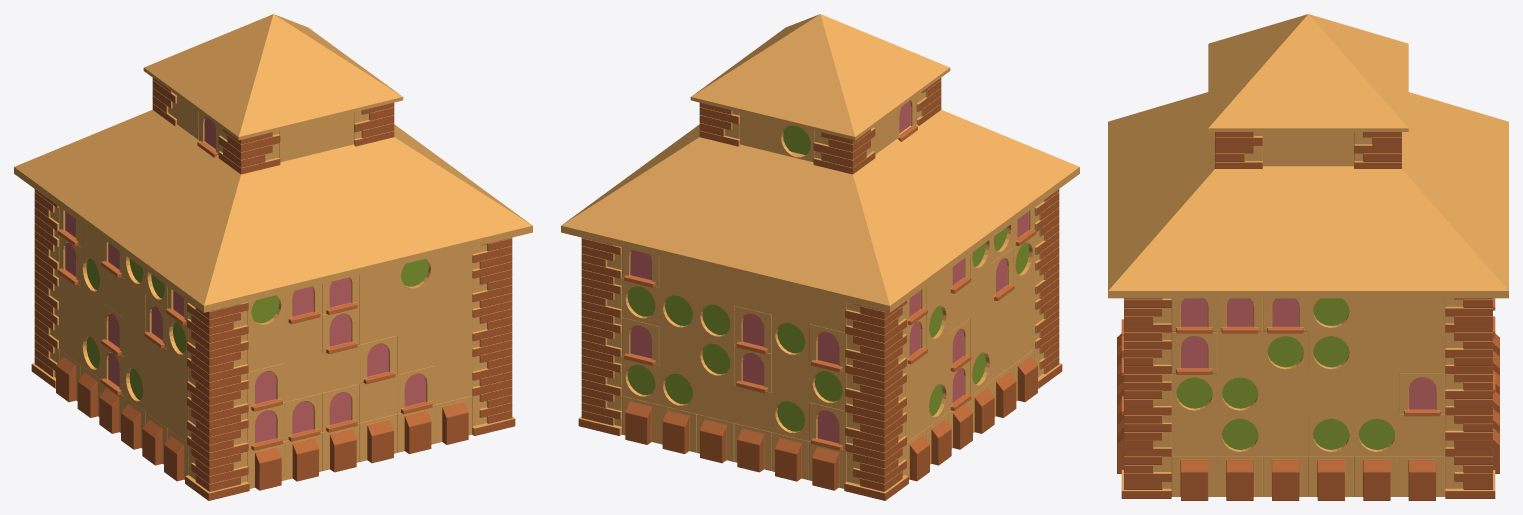
File: house v3.008.fbx
The picture shows the model from 3 angles, left to right: view 1: azimuth 30°, elevation 25°; view 2: azimuth 150°, elevation 25°; view 3: azimuth 270°, elevation 25°; orthographic projection. The views are drawn at different scales.
Parts seen in each view (by area): view 1: House; view 2: House; view 3: House.
Part boxes in pixels (x1=…): House: x1=14, y1=14, x2=532, y2=500; House: x1=561, y1=14, x2=1079, y2=500; House: x1=1108, y1=14, x2=1508, y2=500.
Size of the model in its own units: 879 by 983 by 879.
